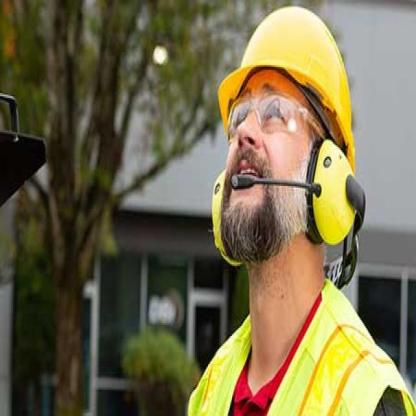capacete: (223, 1, 355, 108)
oculos: (225, 100, 331, 142)
